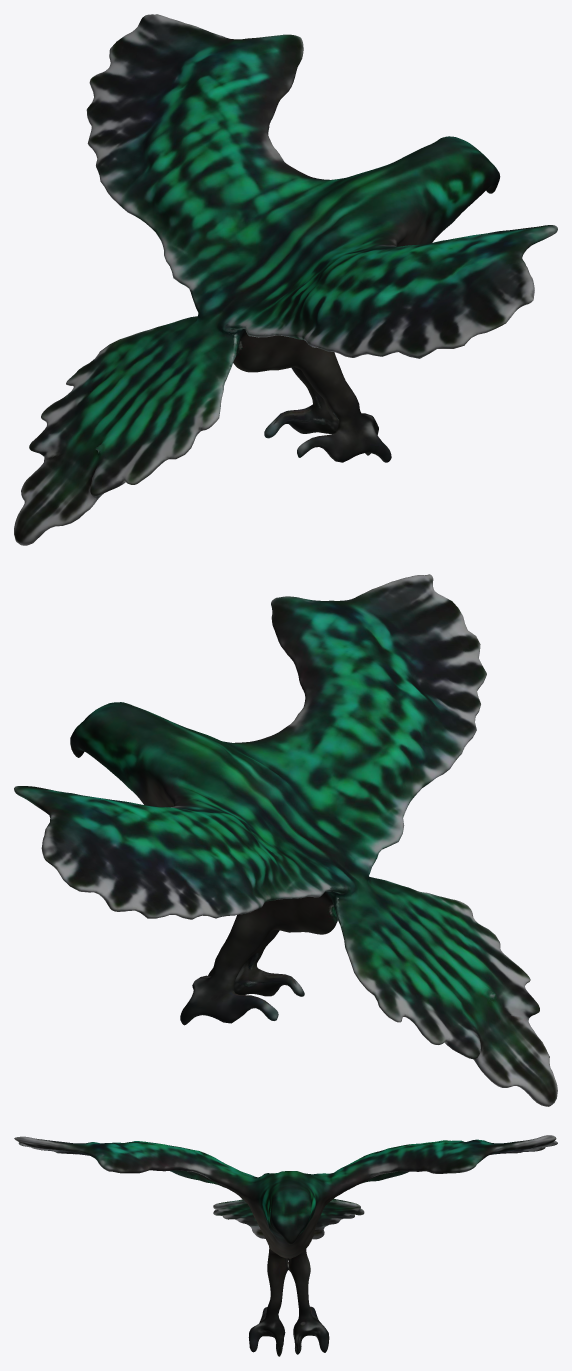
File: 931dad19954b_a_hawk_with_wings_e.fbx
The picture shows the model from 3 angles, top to bottom: view 1: azimuth 30°, elevation 25°; view 2: azimuth 150°, elevation 25°; view 3: azimuth 270°, elevation 25°; orthographic projection. The views are drawn at different scales.
Visible parts, largest first — view 1: mesh; view 2: mesh; view 3: mesh.
Part boxes in pixels (x1=…): mesh: x1=14, y1=14, x2=557, y2=545; mesh: x1=14, y1=574, x2=557, y2=1106; mesh: x1=14, y1=1135, x2=557, y2=1356.
Bounding box in the file's own units: 71.01 × 44.81 × 99.67.
